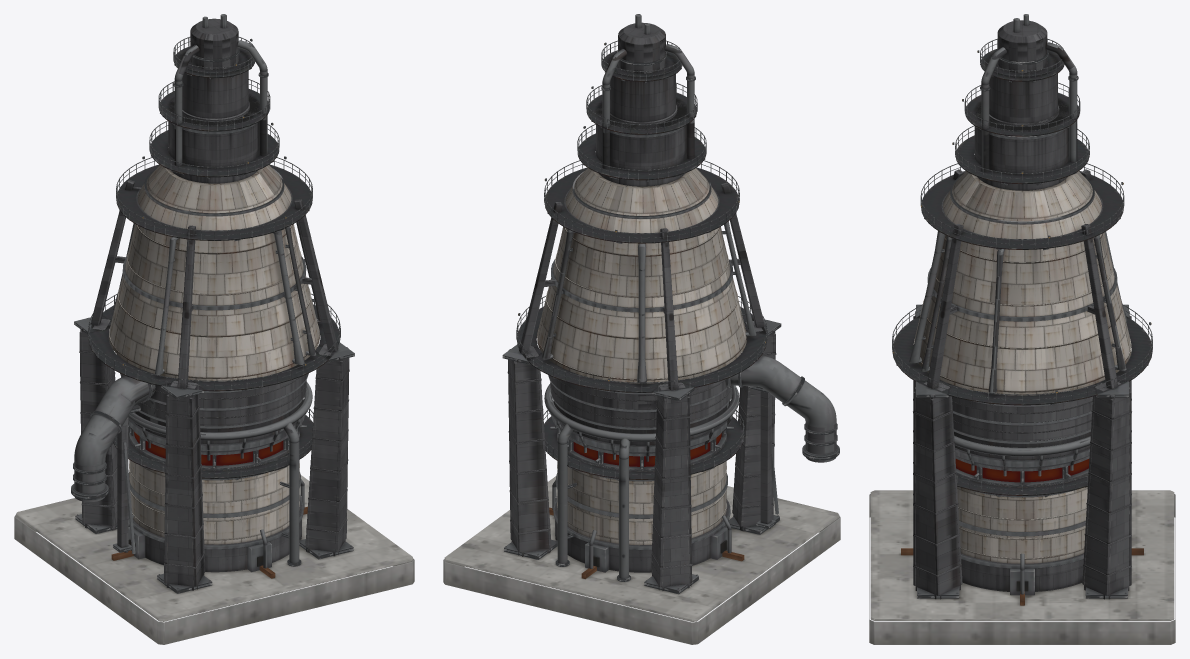
Rendered from blastFurnace.glb.
The picture shows the model from 3 angles, left to right: view 1: azimuth 30°, elevation 25°; view 2: azimuth 150°, elevation 25°; view 3: azimuth 270°, elevation 25°; orthographic projection. The views are drawn at different scales.
Visible parts, largest first — view 1: blastFurnace; view 2: blastFurnace; view 3: blastFurnace.
Boxes of the visible parts, <box> form: blastFurnace: <box>14,14,414,644</box>; blastFurnace: <box>443,14,840,644</box>; blastFurnace: <box>869,14,1175,644</box>.
Bounding box in the file's own units: 37.05 × 65 × 32.
Materials: 3 (3 with a texture image).
